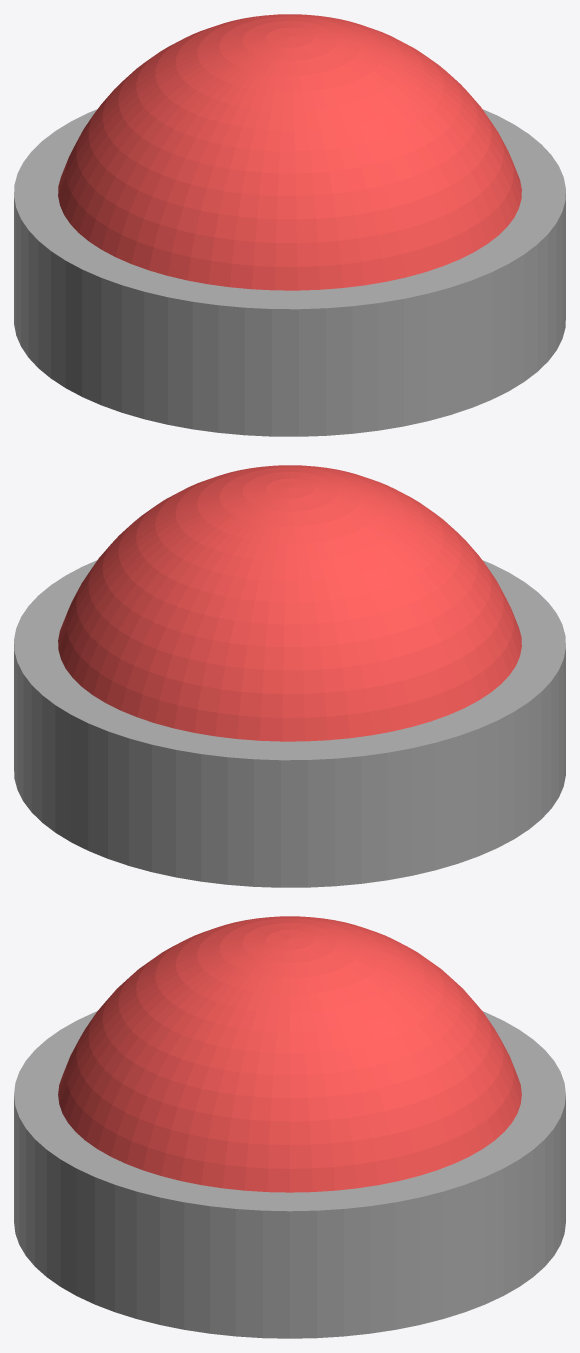
The model's file is indicatorActive.fbx.
The picture shows the model from 3 angles, top to bottom: view 1: azimuth 30°, elevation 25°; view 2: azimuth 150°, elevation 25°; view 3: azimuth 270°, elevation 25°; orthographic projection.
Parts seen in each view (by area): view 1: Sphere, Cylinder; view 2: Sphere, Cylinder; view 3: Sphere, Cylinder.
Part boxes in pixels (<box>): Sphere: <box>58,14,521,290</box>; Cylinder: <box>14,109,565,436</box>; Sphere: <box>58,465,521,741</box>; Cylinder: <box>14,560,565,887</box>; Sphere: <box>58,916,521,1192</box>; Cylinder: <box>14,1011,565,1338</box>.
Size of the model in its own units: 2 by 1.13 by 2.
